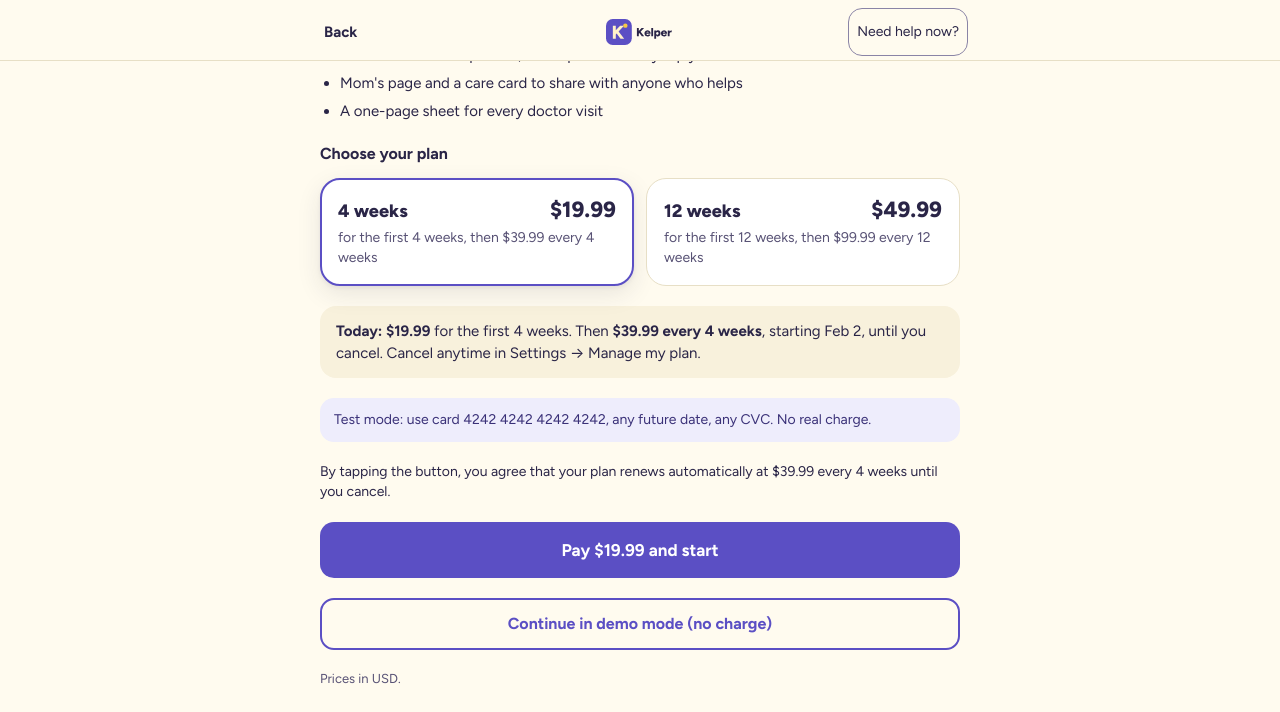
Test: PaywallPage › refuses a non-Stripe checkout host
(page scrolled)
Click the button "Pay $19.99 and start" at (640, 550), box 320,522 -> 960,578
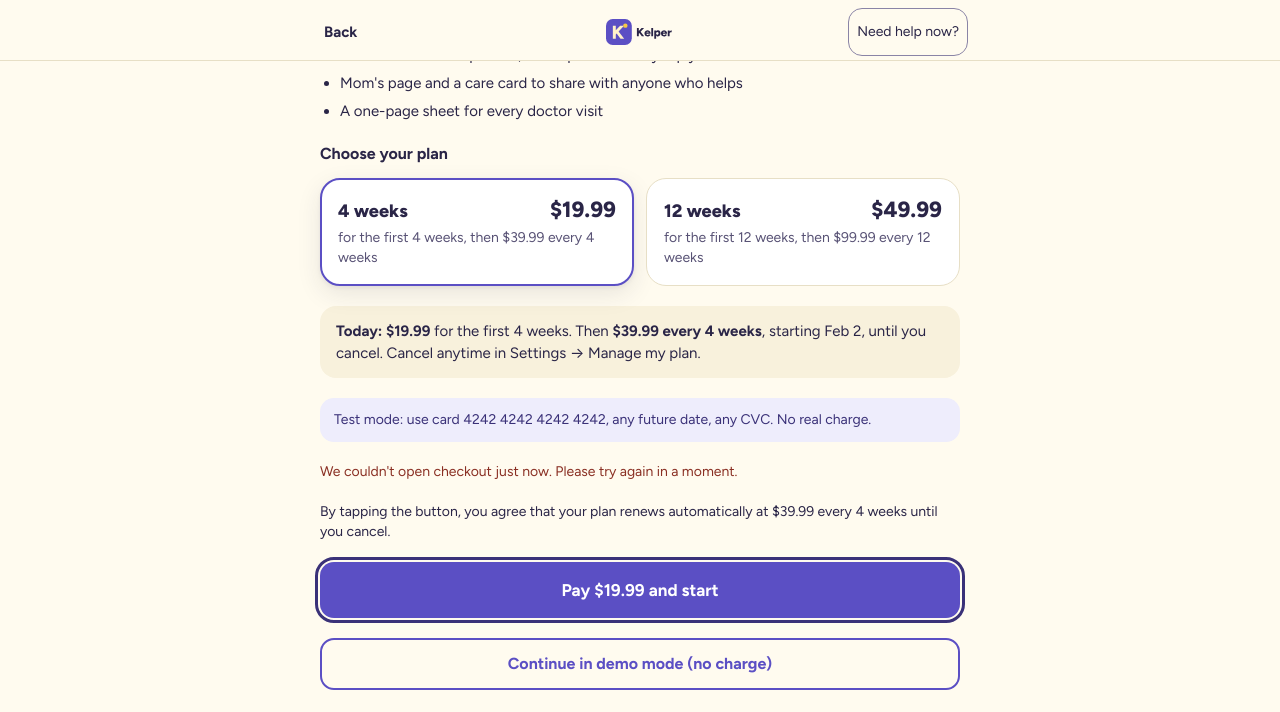
Now the message "We couldn't open checkout just now. Please try again in a moment." is shown, box 320,463 -> 738,480
